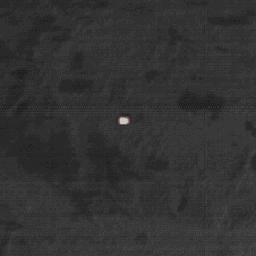Target: (117, 116, 131, 126)
